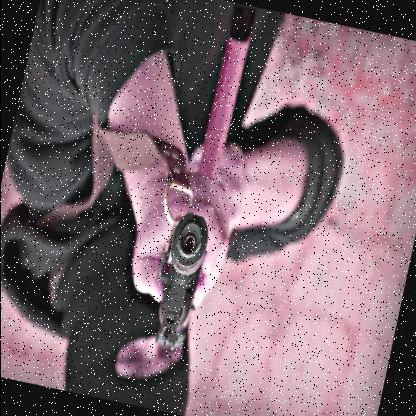rifle: (135, 2, 271, 352)
